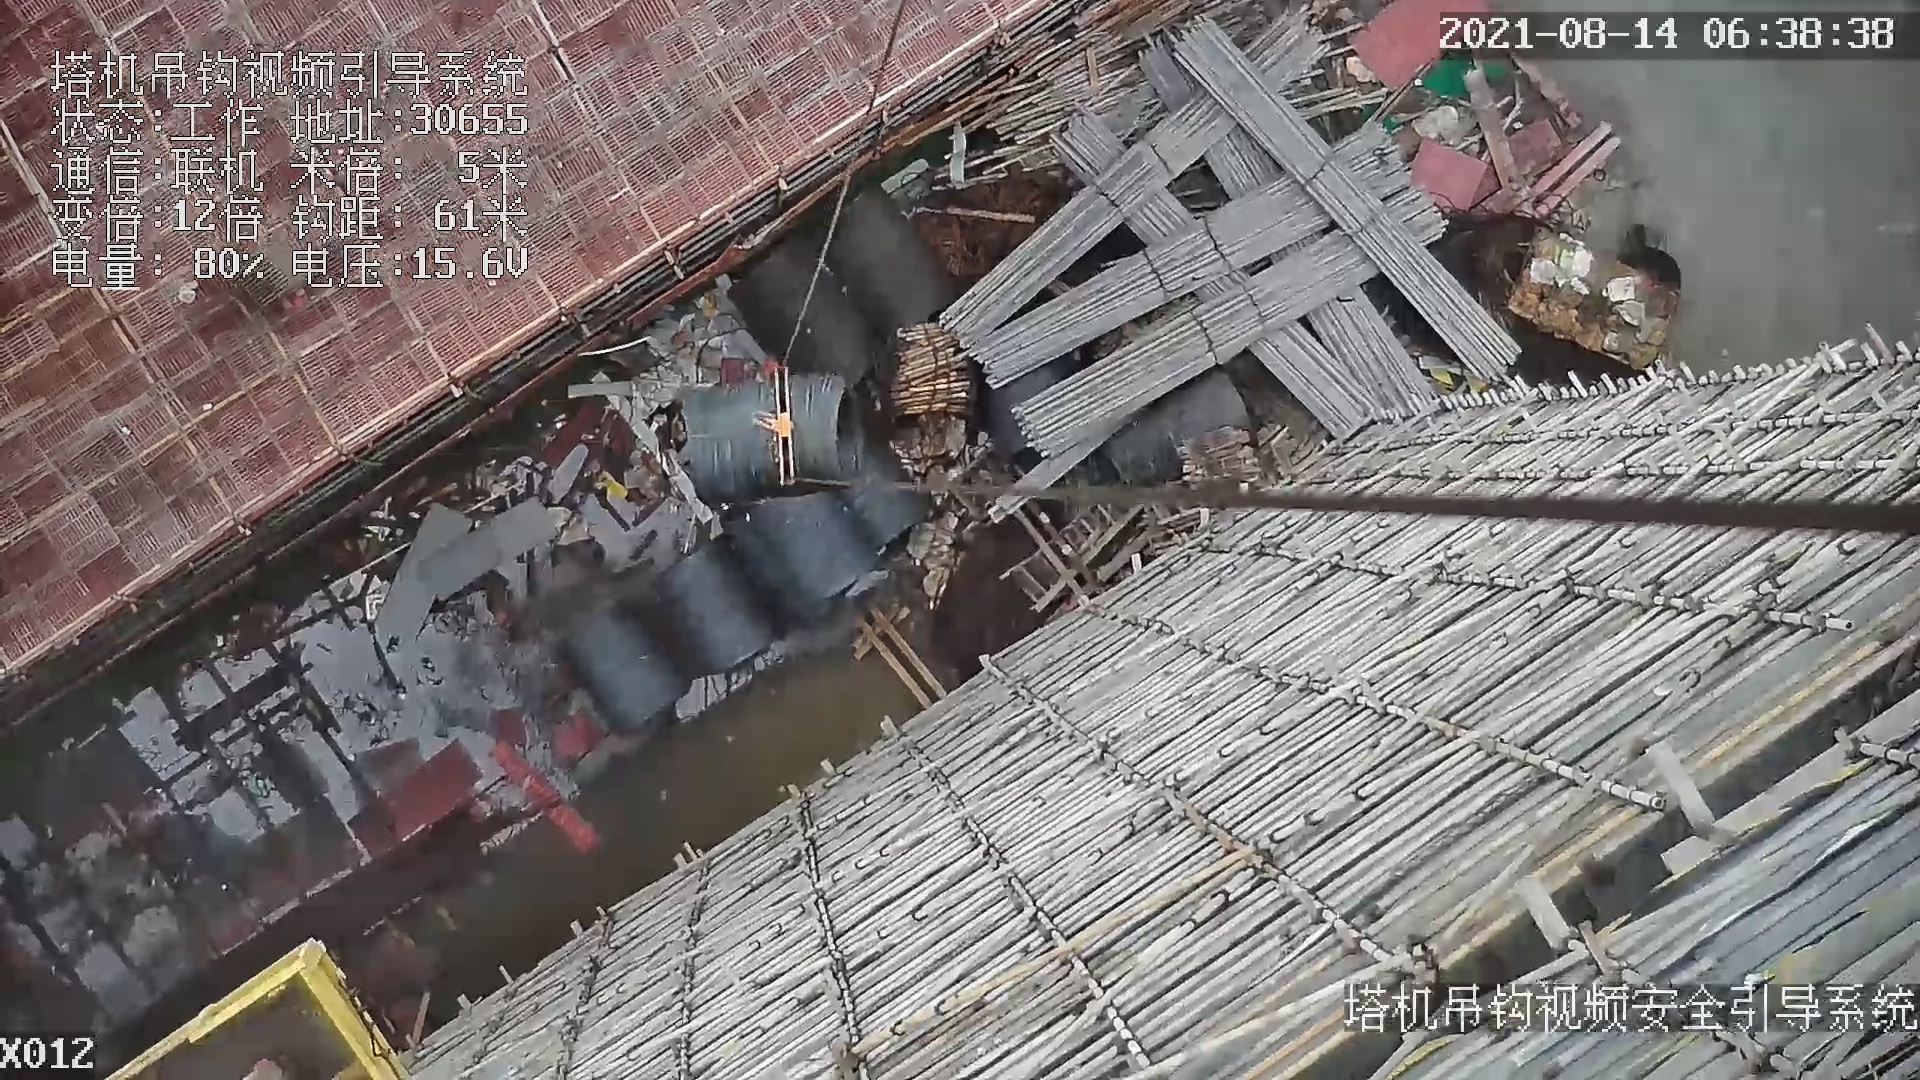hook: (752, 365, 804, 491)
